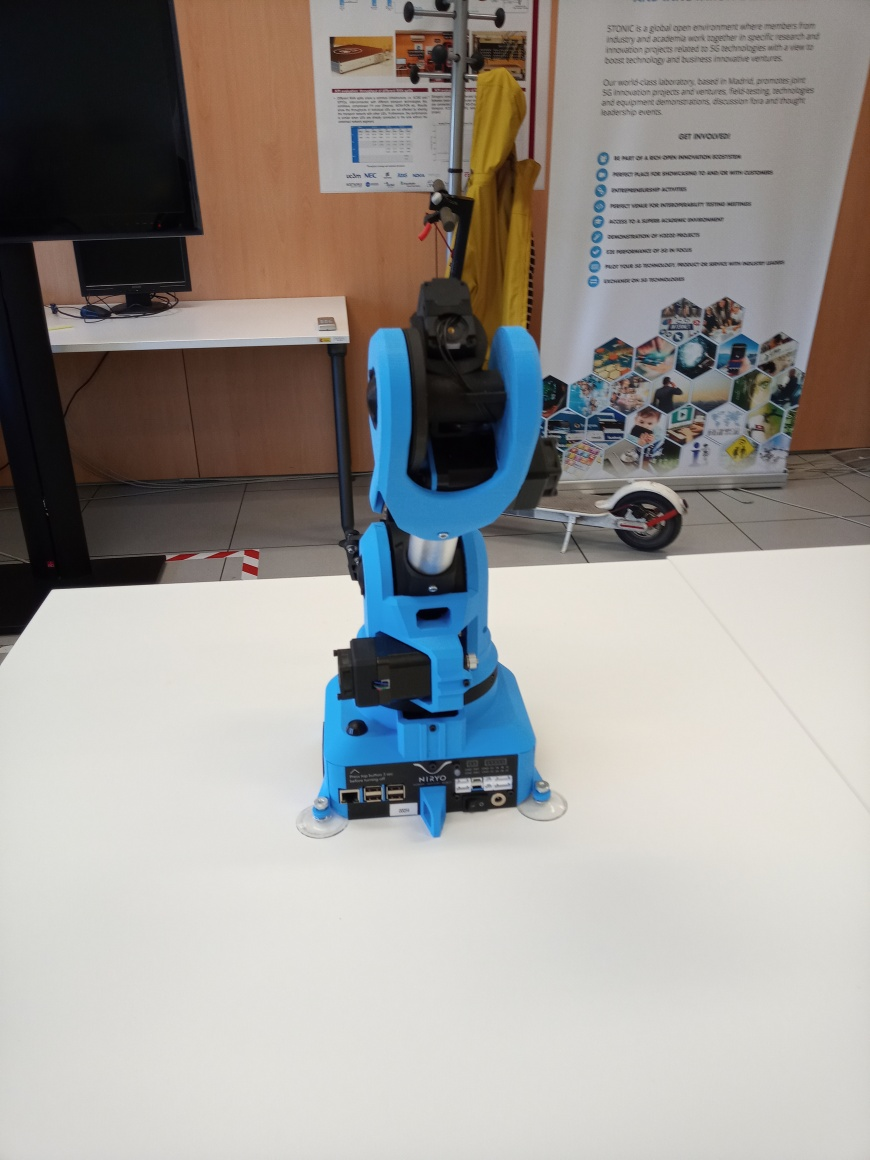robot: (293, 276, 571, 842)
